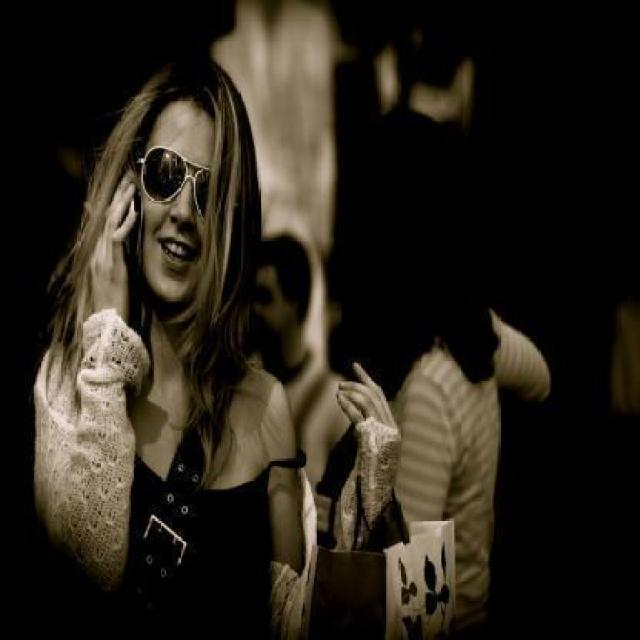face_nomask: (139, 150, 224, 281)
glasses: (134, 140, 212, 225)
hand_noglove: (324, 355, 413, 454)
head_nohelmet: (108, 44, 264, 136)
person: (32, 35, 416, 640)
